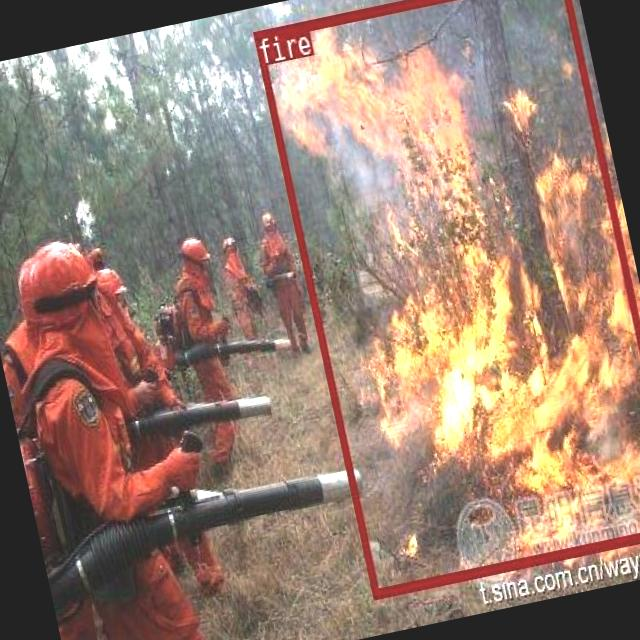fire: (251, 0, 640, 598)
